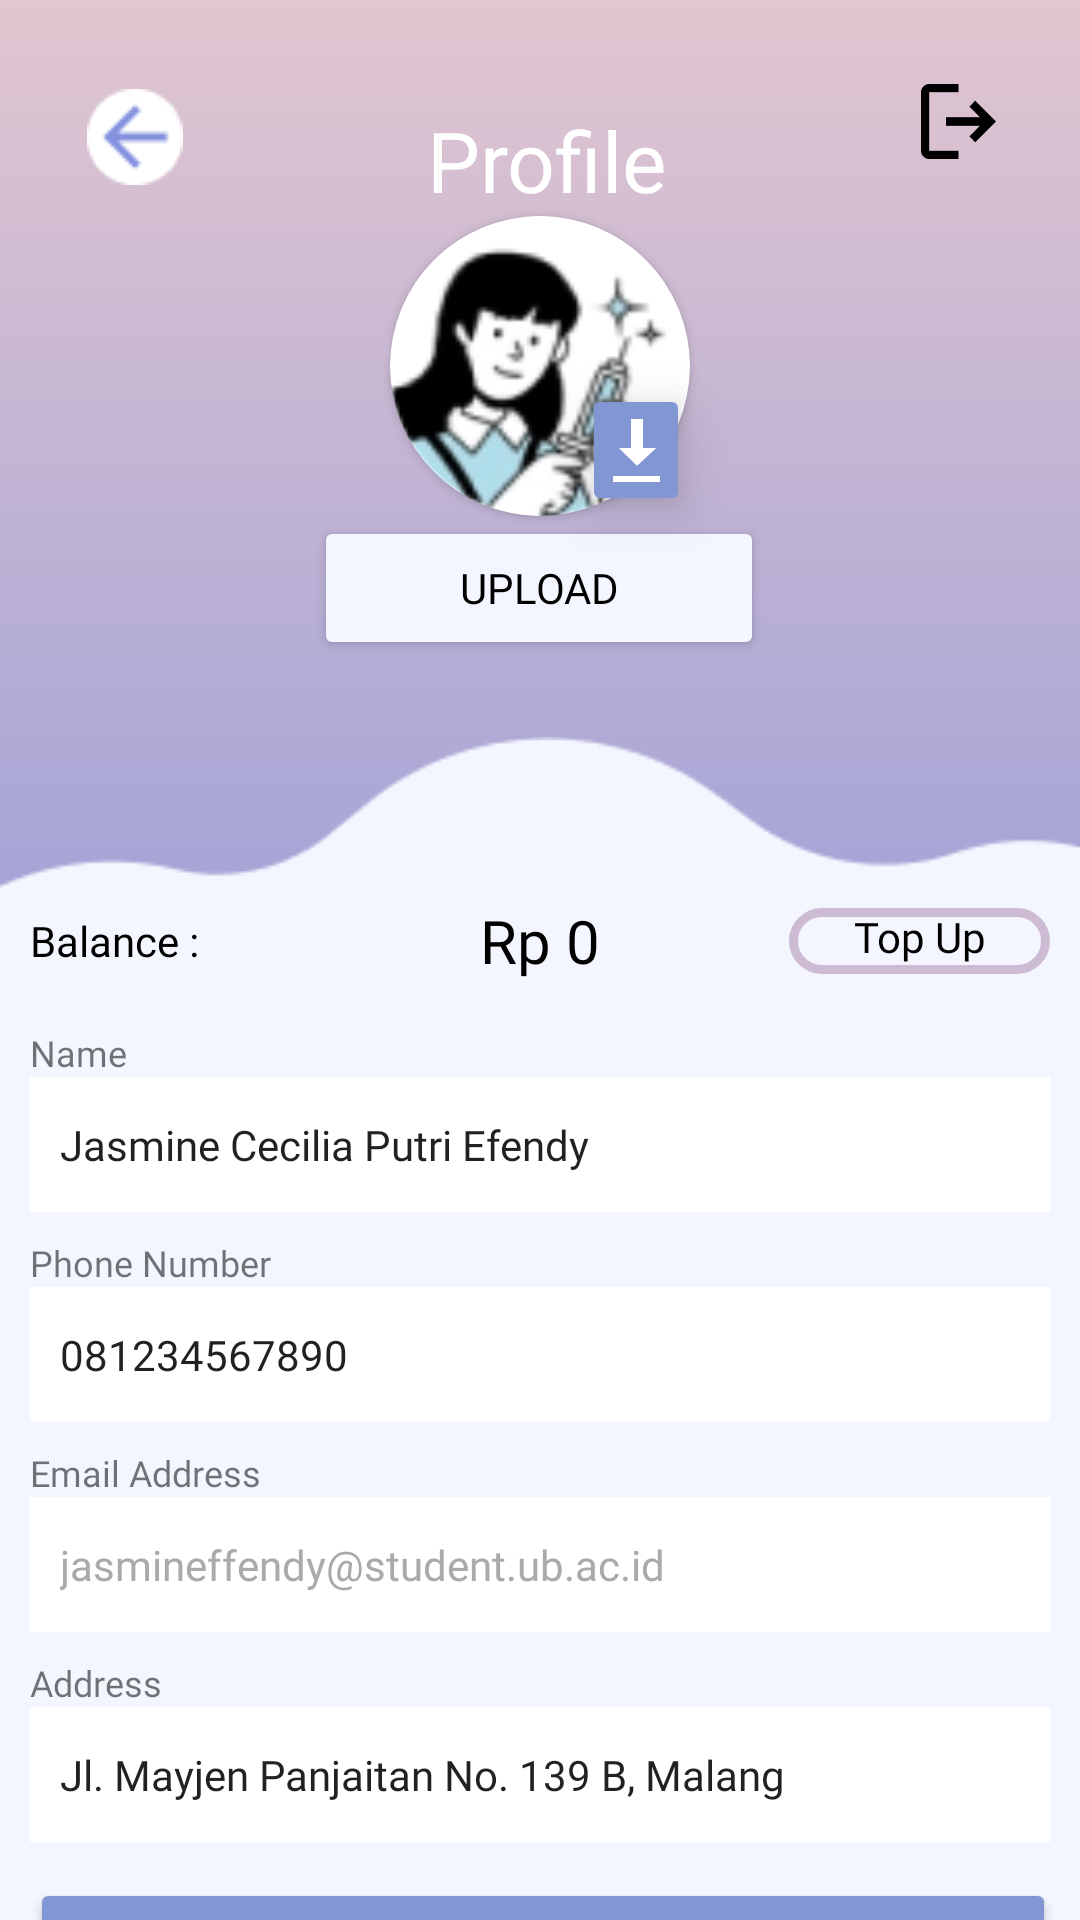

Named icons in this screenshot (1080 × 1920) and their centers, [x,y]:
back: [135,137]
download: [636,450]
